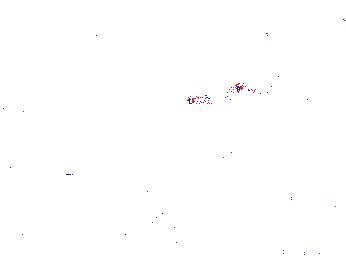glassfish: (202, 136, 310, 204)
red belly glassfish: (184, 85, 235, 108), (262, 28, 291, 53), (232, 81, 277, 97)
